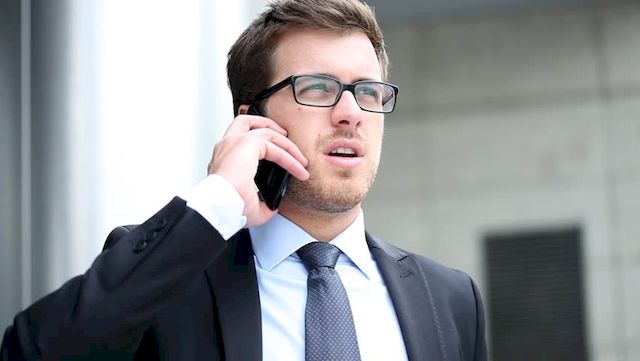phone: (236, 126, 296, 213)
talk: (209, 67, 386, 228)
